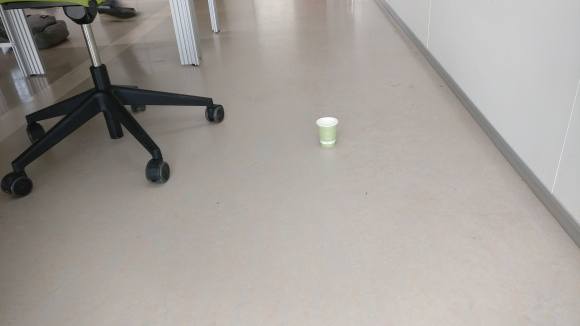cup: (315, 115, 340, 149)
